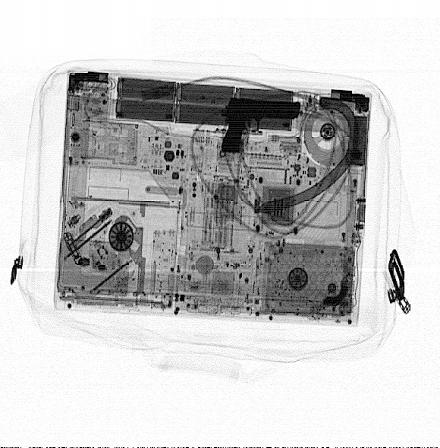Gun: (220, 98, 303, 152)
